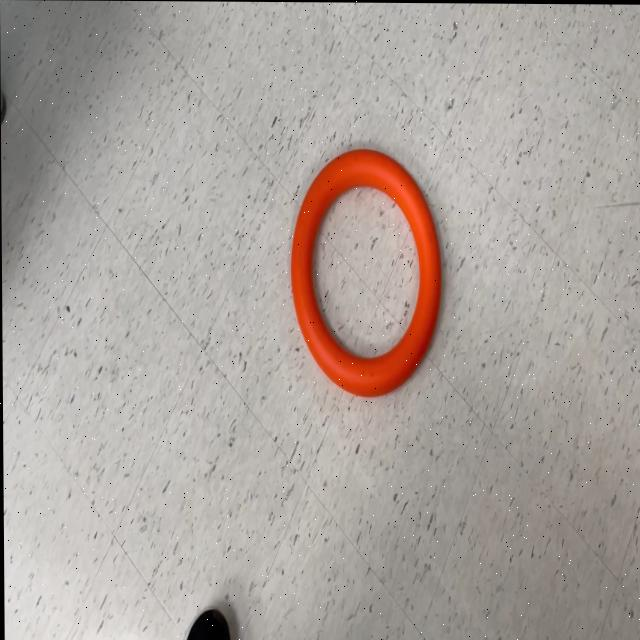note: (289, 146, 442, 397)
